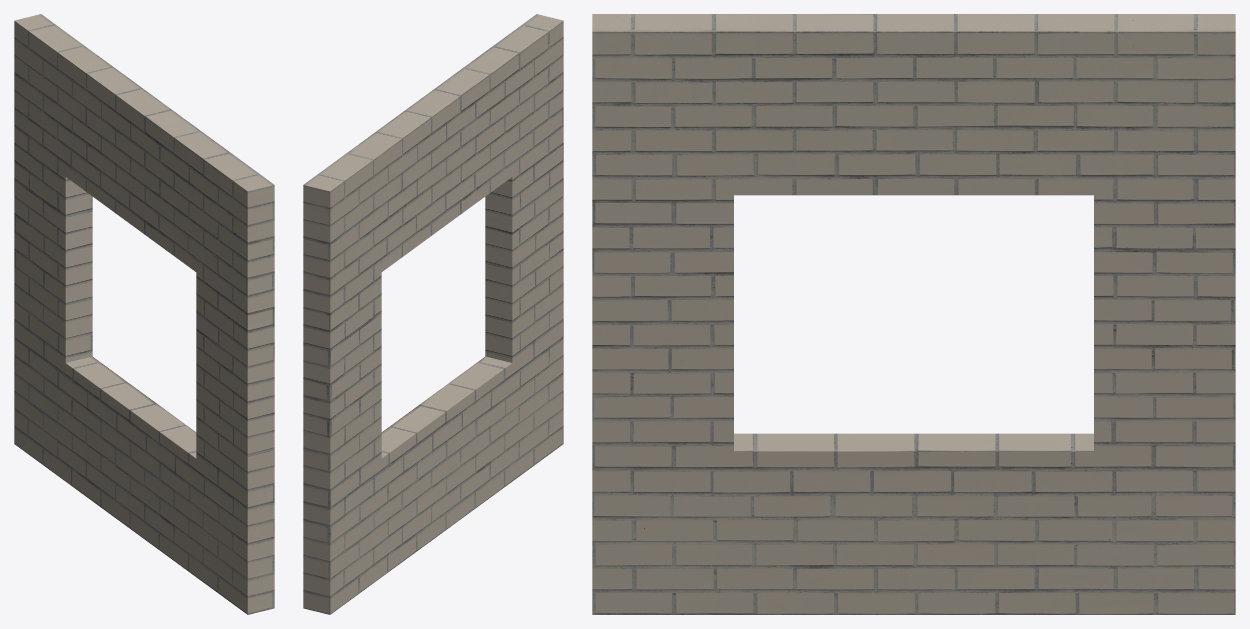
File: BrickWall_Window_01.FBX
3 views of the same model, side by side, from view 1: azimuth 30°, elevation 25°; view 2: azimuth 150°, elevation 25°; view 3: azimuth 270°, elevation 25° (orthographic). The views are drawn at different scales.
Parts seen in each view (by area): view 1: Box056; view 2: Box056; view 3: Box056.
Part boxes in pixels (<box>): Box056: <box>14,14,274,614</box>; Box056: <box>303,14,563,614</box>; Box056: <box>592,14,1235,614</box>.
Bounding box in the file's own units: 0.2 × 3 × 3.
